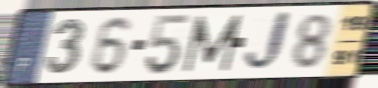3: (44, 16, 87, 78)
5: (142, 13, 192, 77)
6: (89, 15, 133, 78)
8: (291, 12, 334, 71)
J: (241, 9, 294, 76)
M: (181, 13, 245, 75)
